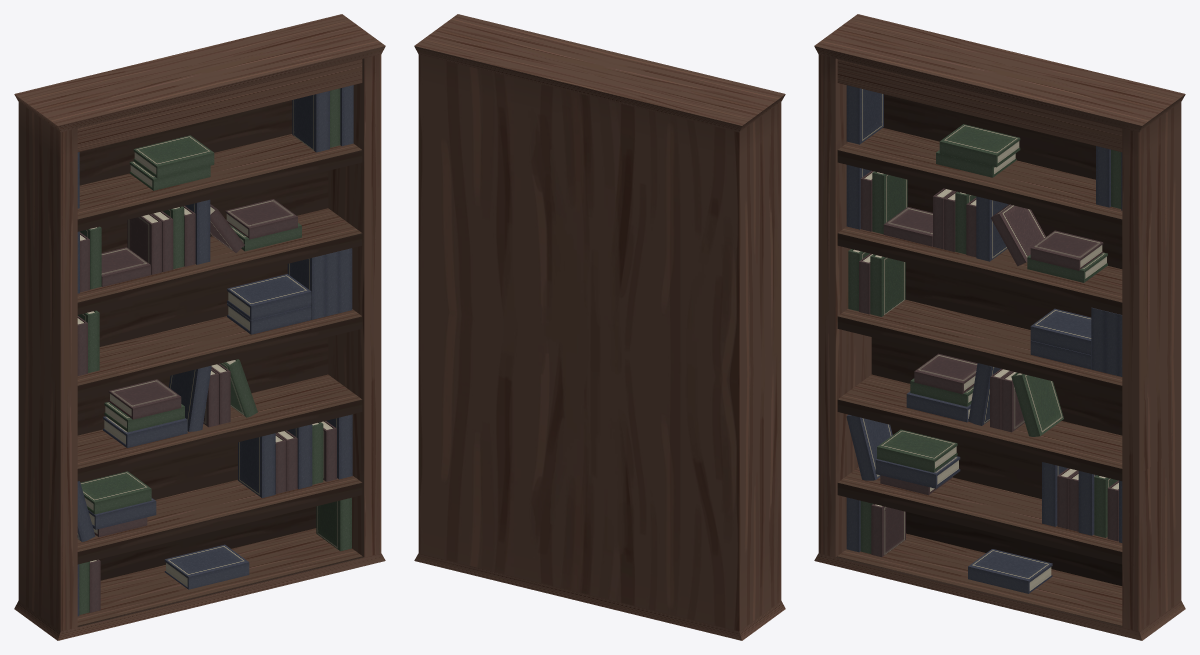
The model's file is 3dmodel_bookshelf_v1_sc.fbx.
3 renders of one model, left to right at view 1: azimuth 30°, elevation 25°; view 2: azimuth 150°, elevation 25°; view 3: azimuth 330°, elevation 25°, orthographic.
Visible parts, largest first — view 1: bookshelf; view 2: bookshelf; view 3: bookshelf.
Boxes of the visible parts, left/top/right/bottom form: bookshelf: left=14, top=14, right=385, bottom=640; bookshelf: left=414, top=14, right=785, bottom=640; bookshelf: left=814, top=14, right=1185, bottom=640.
Bounding box in the file's own units: 1.33 × 2 × 0.3067.
